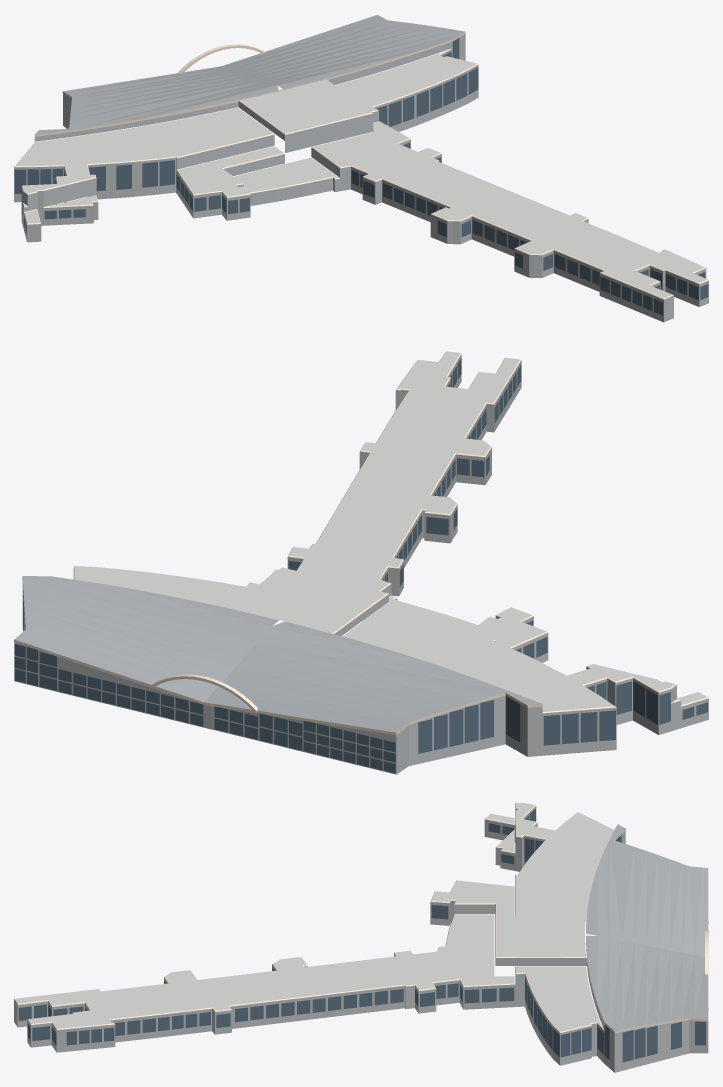
The model's file is nyc-jfk-terminal-1.glb.
3 views of the same model, one above another, from view 1: azimuth 30°, elevation 25°; view 2: azimuth 150°, elevation 25°; view 3: azimuth 270°, elevation 25° (orthographic). The views are drawn at different scales.
Parts seen in each view (by area): view 1: JFK Airport Terminal 1; view 2: JFK Airport Terminal 1; view 3: JFK Airport Terminal 1.
Boxes of the visible parts, x1,y1,x2,y2 form: JFK Airport Terminal 1: [14, 15, 708, 322]; JFK Airport Terminal 1: [14, 351, 708, 774]; JFK Airport Terminal 1: [14, 803, 708, 1072].
Bounding box in the file's own units: 284 × 23.42 × 346.
